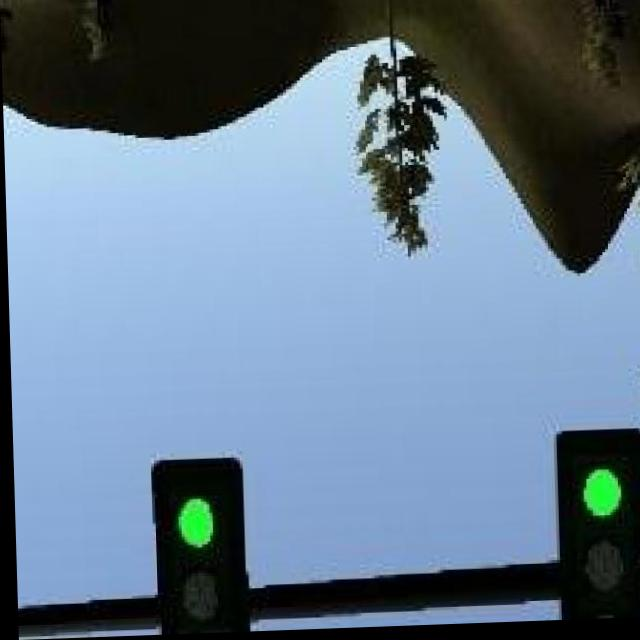green light: (148, 453, 252, 633), (557, 436, 640, 621)
